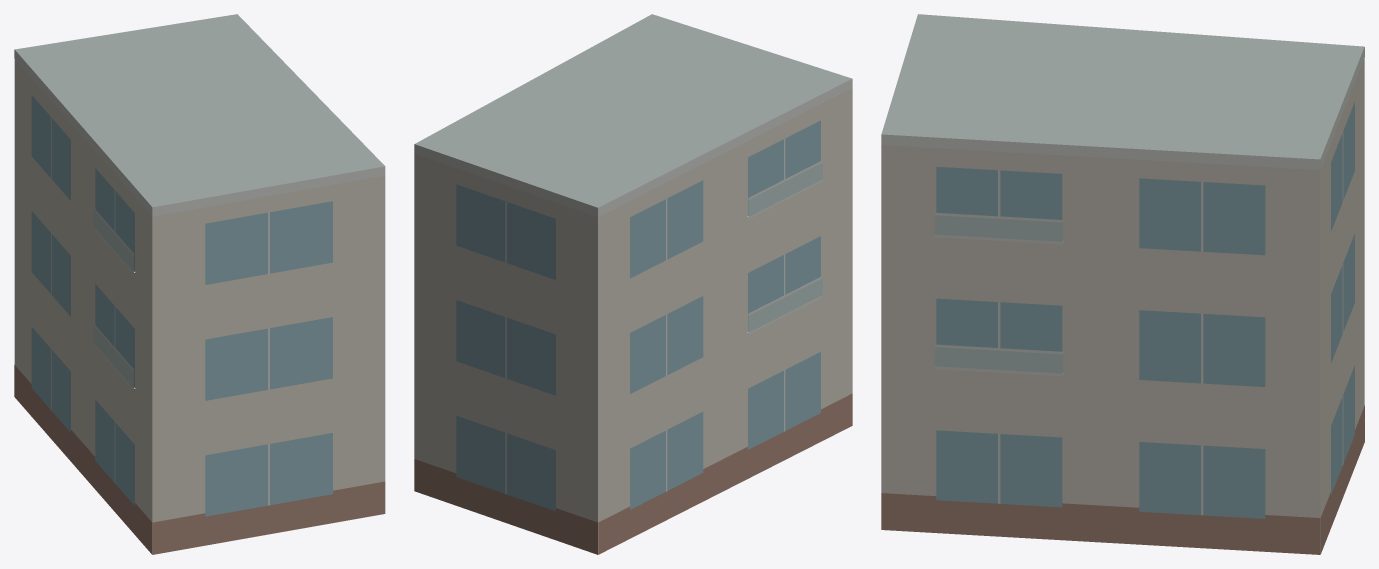
File: survey-upis-32657115.glb
3 views of the same model, side by side, from view 1: azimuth 30°, elevation 25°; view 2: azimuth 150°, elevation 25°; view 3: azimuth 270°, elevation 25° (orthographic). The views are drawn at different scales.
Parts seen in each view (by area): view 1: survey-upis-32657115.tmp; view 2: survey-upis-32657115.tmp; view 3: survey-upis-32657115.tmp.
Part boxes in pixels (bbox=[...]): survey-upis-32657115.tmp: bbox=[14, 14, 385, 554]; survey-upis-32657115.tmp: bbox=[414, 14, 852, 554]; survey-upis-32657115.tmp: bbox=[881, 14, 1364, 554].
Size of the model in its own units: 7.23 by 9.15 by 10.15.
